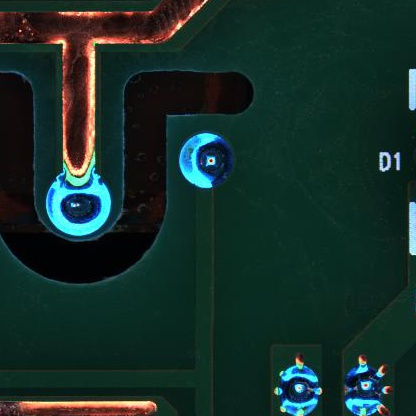spot: (46, 172, 114, 237), (179, 132, 236, 191), (341, 353, 394, 416), (274, 353, 322, 416)
